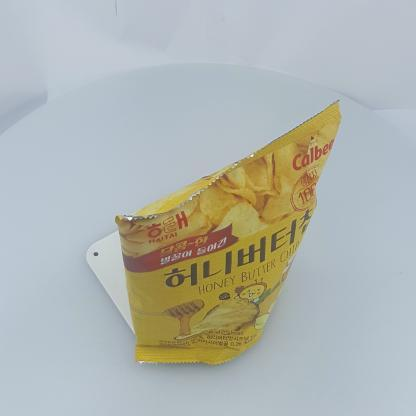Plastic Packaging: (96, 94, 348, 378)
